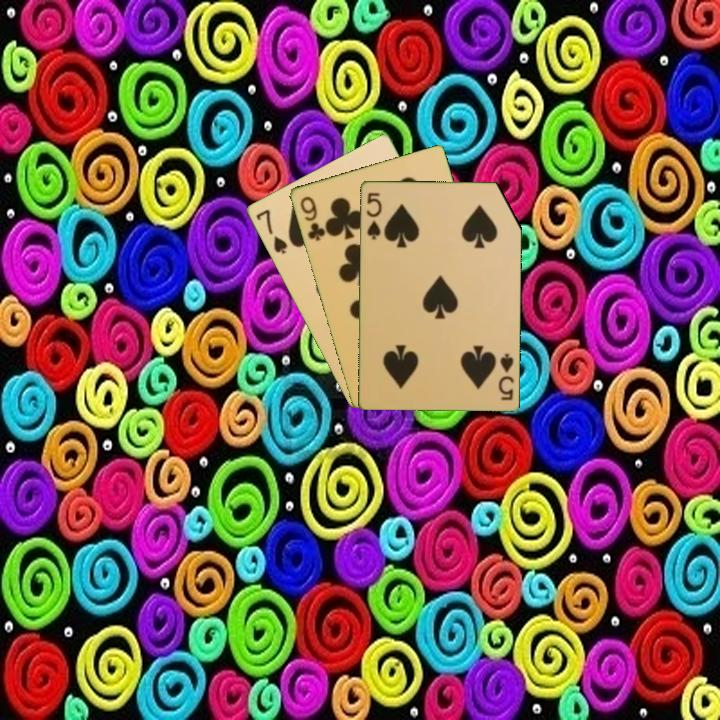5s: (363, 189, 384, 242), (495, 349, 516, 402)
7s: (252, 206, 290, 257)
9c: (296, 193, 327, 243)
